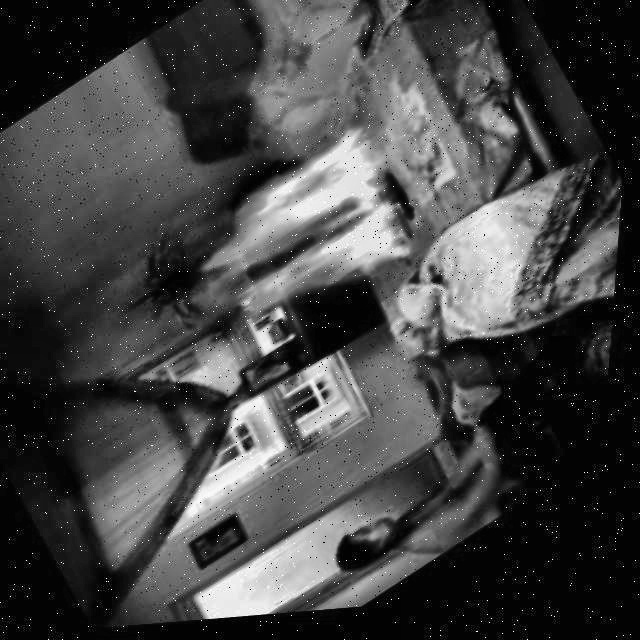Fire: (174, 115, 444, 366)
